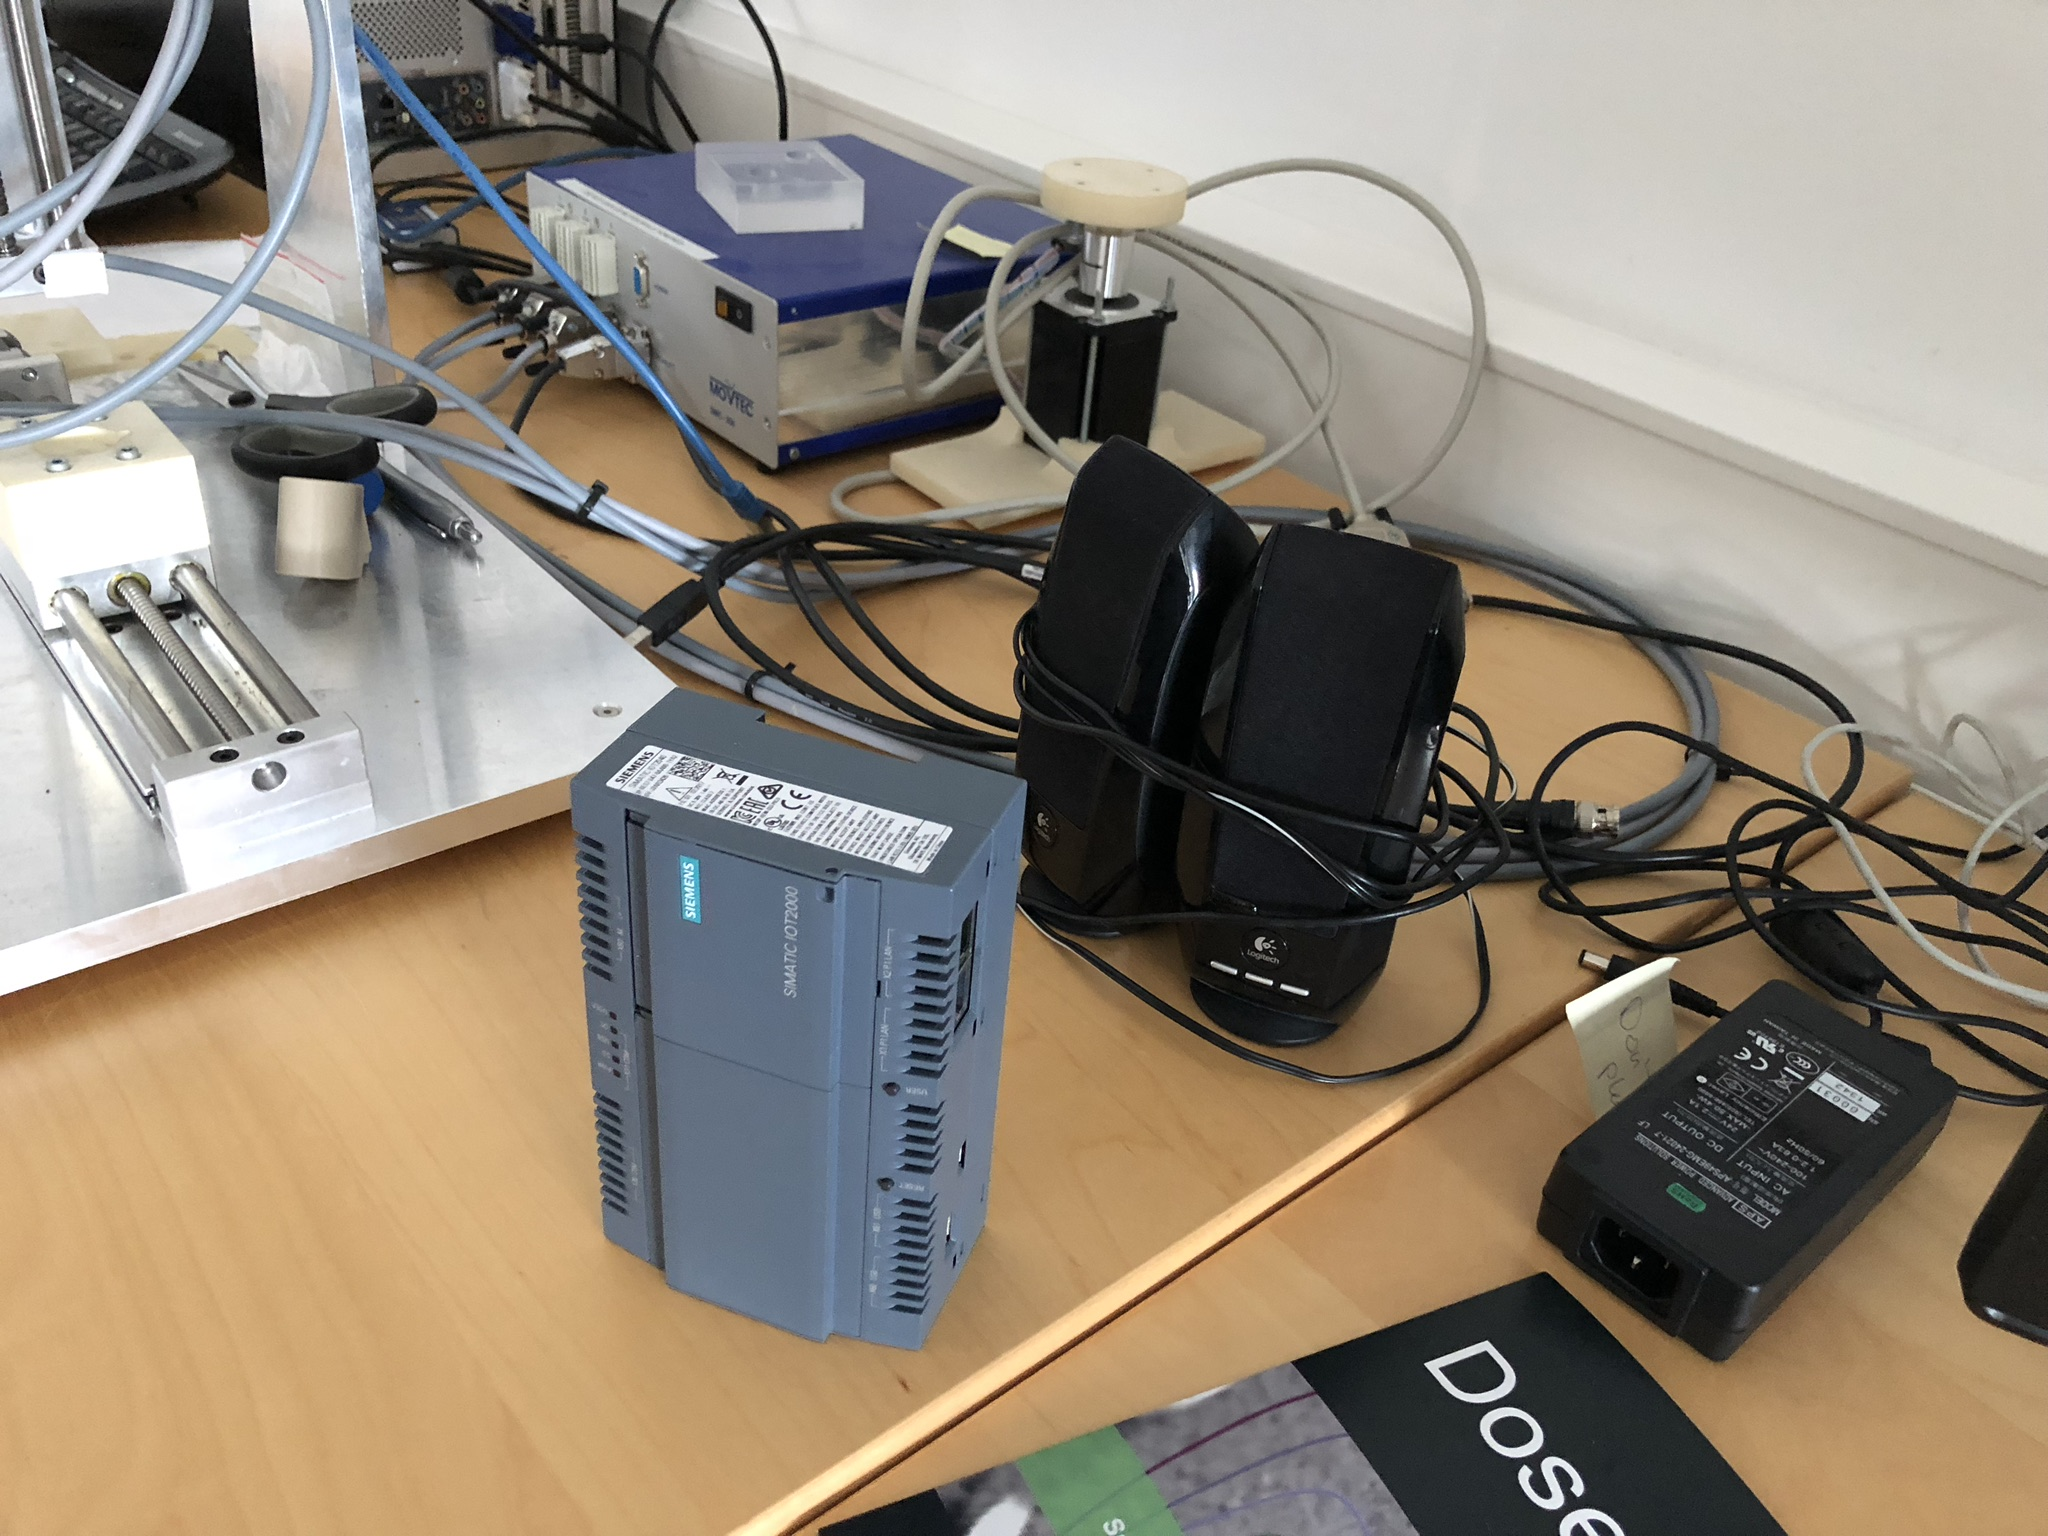device: (569, 687, 1027, 1350)
